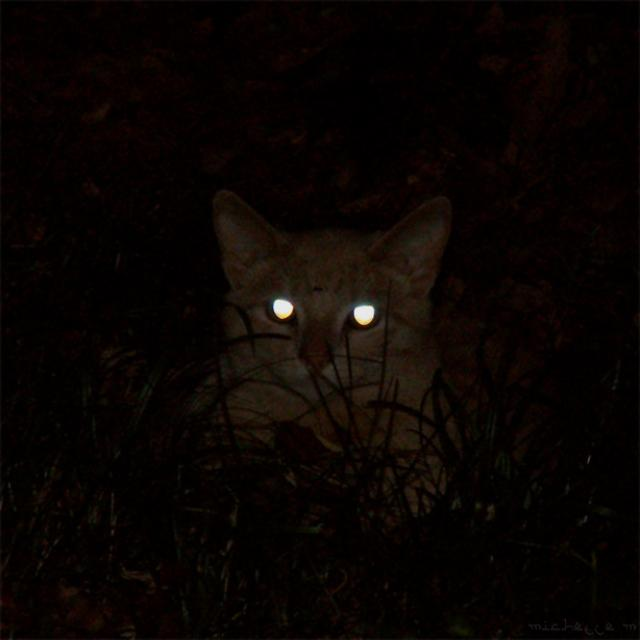Cat: (182, 170, 492, 552)
